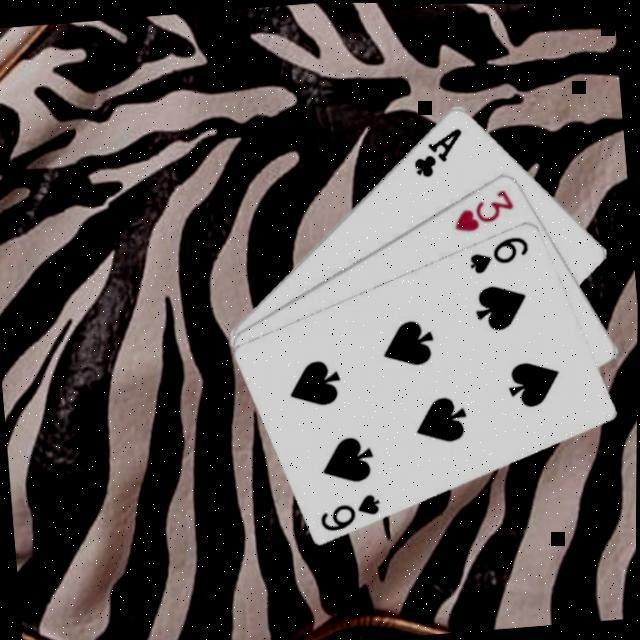3H: (447, 184, 519, 236)
6S: (463, 231, 532, 277), (315, 489, 384, 535)
AC: (406, 123, 467, 181)
